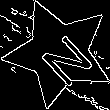N_NW: (26, 21, 91, 85)
